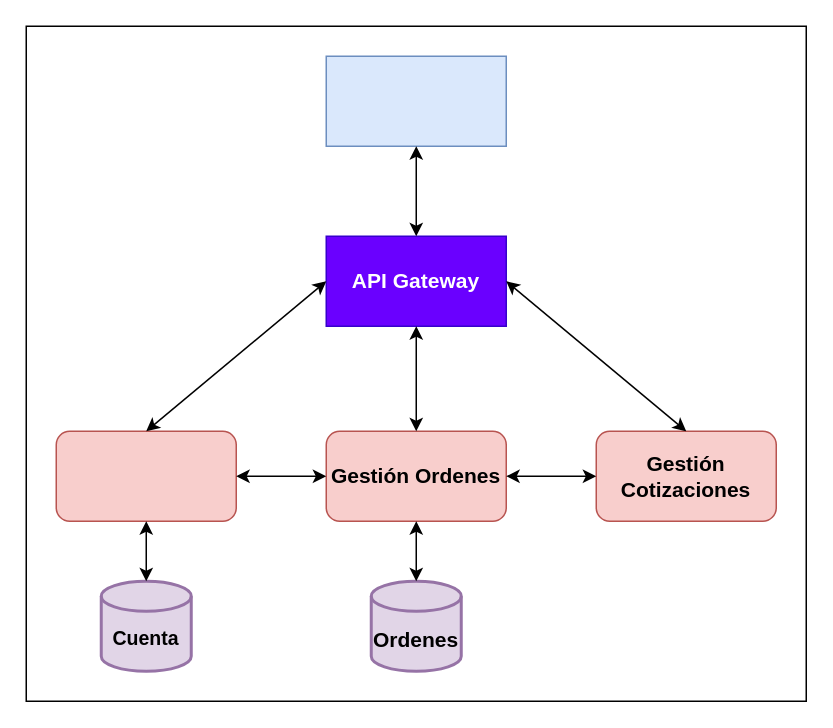
This 833x728 diagram has some shape labels left out. Here are the shapes that lost their labels. From the top down, the box of each, then its label:
(325, 55, 506, 146): Cliente
(55, 430, 236, 521): Gestión Cuenta
